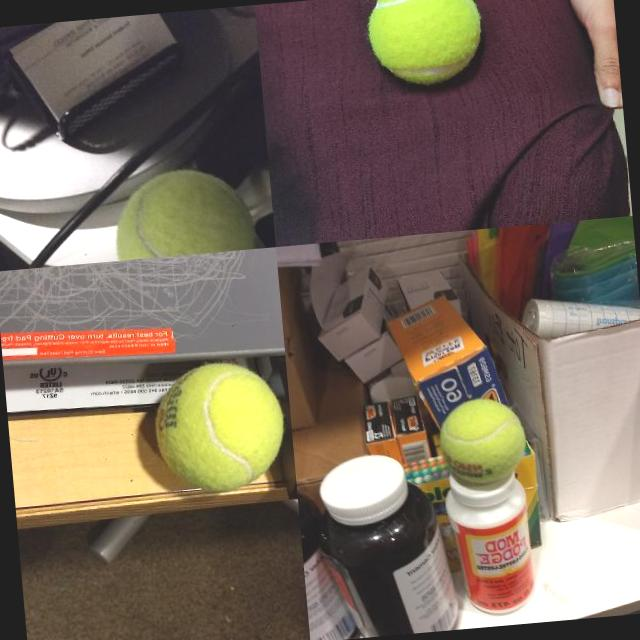Tennis Ball: (148, 356, 290, 496), (110, 162, 258, 260), (365, 0, 485, 87), (434, 393, 528, 486)
